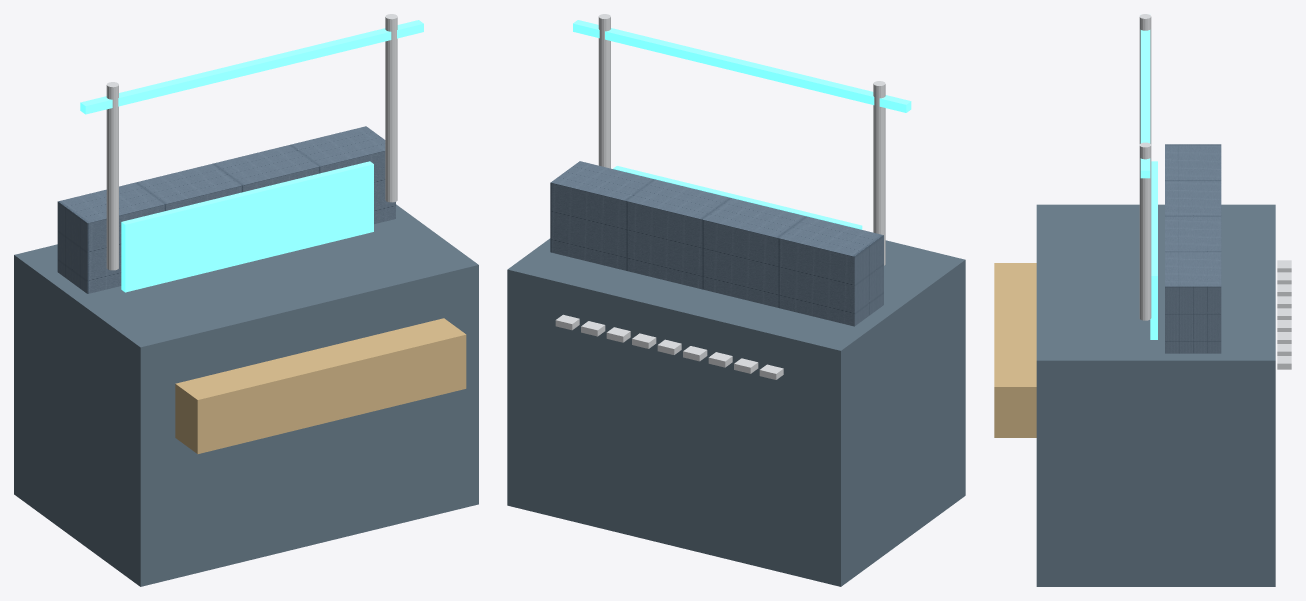
File: gantry_service_console.glb
The picture shows the model from 3 angles, left to right: view 1: azimuth 30°, elevation 25°; view 2: azimuth 150°, elevation 25°; view 3: azimuth 270°, elevation 25°; orthographic projection. The views are drawn at different scales.
Visible parts, largest first — view 1: gantry_service_console_000, gantry_service_console_003, gantry_service_console_002, gantry_service_console_001, gantry_service_console_033, gantry_service_console_031, gantry_service_console_032; view 2: gantry_service_console_000, gantry_service_console_001, gantry_service_console_033, gantry_service_console_031, gantry_service_console_032, gantry_service_console_002; view 3: gantry_service_console_000, gantry_service_console_001, gantry_service_console_003, gantry_service_console_032, gantry_service_console_033, gantry_service_console_002, gantry_service_console_031.
Part boxes in pixels (bbox=[...]): gantry_service_console_000: bbox=[14, 204, 478, 586]; gantry_service_console_003: bbox=[175, 318, 466, 453]; gantry_service_console_002: bbox=[121, 161, 373, 292]; gantry_service_console_001: bbox=[57, 126, 395, 293]; gantry_service_console_033: bbox=[80, 20, 423, 114]; gantry_service_console_031: bbox=[106, 82, 118, 270]; gantry_service_console_032: bbox=[385, 14, 397, 202]; gantry_service_console_000: bbox=[507, 238, 965, 586]; gantry_service_console_001: bbox=[550, 161, 883, 326]; gantry_service_console_033: bbox=[573, 20, 911, 112]; gantry_service_console_031: bbox=[873, 81, 885, 265]; gantry_service_console_032: bbox=[598, 14, 610, 168]; gantry_service_console_002: bbox=[613, 166, 862, 229]; gantry_service_console_000: bbox=[1036, 204, 1275, 586]; gantry_service_console_001: bbox=[1165, 144, 1221, 353]; gantry_service_console_003: bbox=[994, 263, 1036, 437]; gantry_service_console_032: bbox=[1139, 142, 1151, 320]; gantry_service_console_033: bbox=[1140, 30, 1150, 178]; gantry_service_console_002: bbox=[1150, 161, 1157, 339]; gantry_service_console_031: bbox=[1139, 14, 1151, 144].
Bounding box in the file's own units: 1.7 × 2.18 × 1.37.
Materials: 5 (1 with a texture image).
